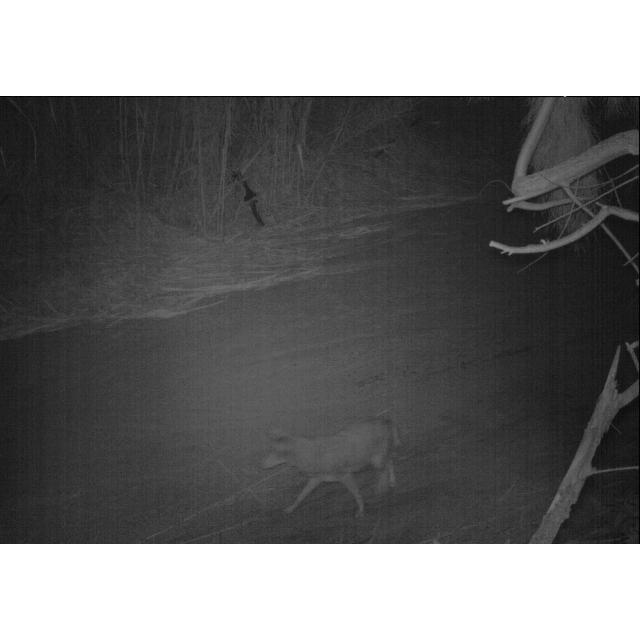animals: (259, 412, 405, 524)
